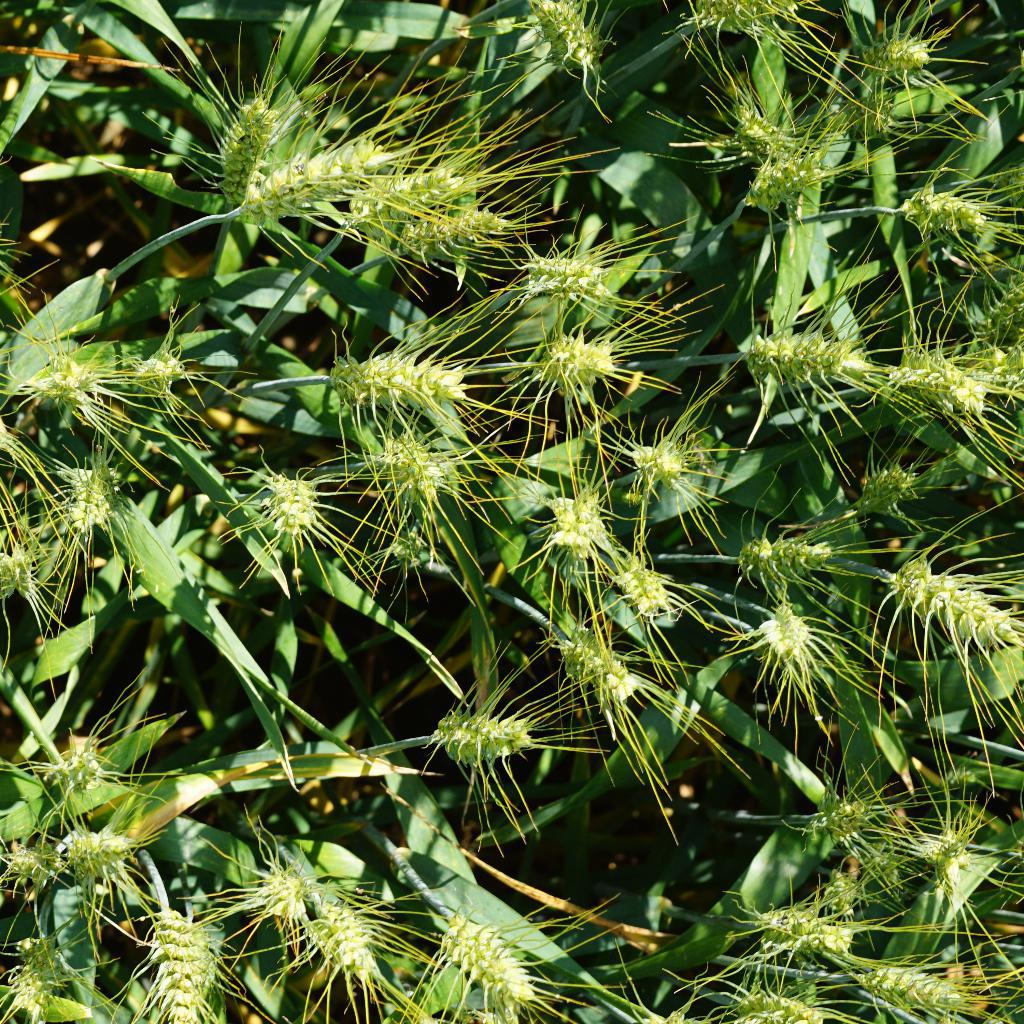0-0: (232, 116, 374, 222), (894, 548, 1020, 654), (339, 154, 499, 237), (206, 77, 281, 215), (436, 909, 546, 1002), (541, 610, 641, 706), (142, 907, 224, 1024), (733, 316, 873, 384), (329, 350, 473, 414), (390, 204, 533, 268), (518, 321, 635, 397), (728, 146, 837, 223), (417, 697, 541, 762), (855, 948, 971, 1016), (534, 482, 624, 564), (523, 0, 621, 74), (896, 340, 993, 413), (617, 422, 705, 501), (890, 174, 1005, 234), (752, 889, 858, 953), (254, 467, 333, 552), (3, 927, 68, 1024), (602, 545, 680, 623), (309, 894, 382, 976), (27, 340, 103, 418), (369, 429, 452, 500), (524, 249, 620, 309), (903, 808, 980, 882), (32, 732, 119, 797), (133, 337, 205, 415), (686, 0, 821, 40), (752, 590, 817, 672), (55, 830, 145, 888), (875, 26, 944, 101), (813, 773, 882, 845), (242, 854, 314, 923), (709, 90, 787, 150), (63, 460, 123, 537), (179, 894, 219, 1009), (854, 451, 923, 516), (825, 89, 906, 144), (733, 980, 834, 1024), (374, 519, 445, 581), (746, 534, 841, 578), (809, 864, 868, 916), (0, 534, 37, 613), (0, 840, 58, 886)
